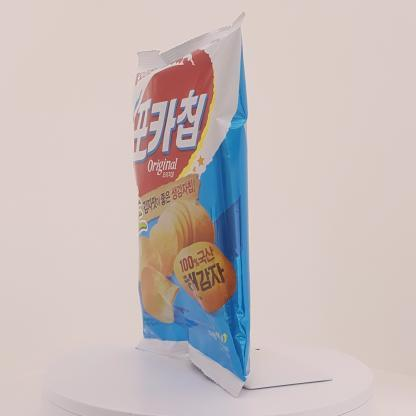Plastic Packaging: (127, 16, 257, 394)
